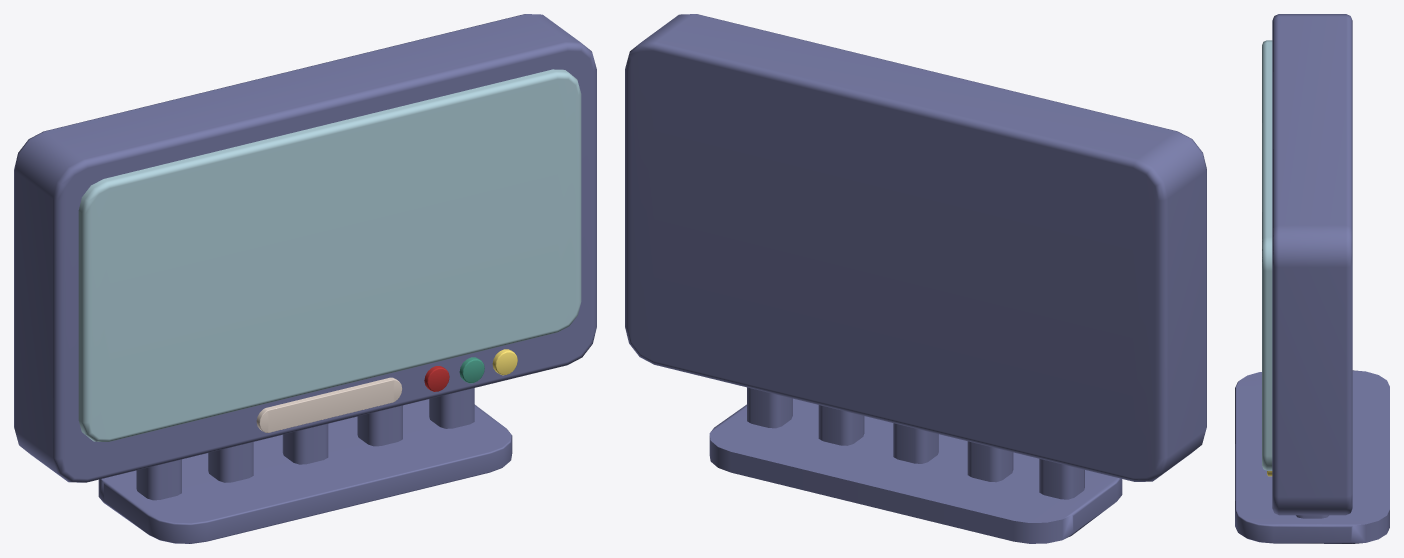
3 views of the same model, side by side, from view 1: azimuth 30°, elevation 25°; view 2: azimuth 150°, elevation 25°; view 3: azimuth 270°, elevation 25° (orthographic). The views are drawn at different scales.
Parts seen in each view (by area): view 1: TV_1; view 2: TV_1; view 3: TV_1.
Boxes of the visible parts, x1,y1,x2,y2 form: TV_1: (14, 14, 596, 543); TV_1: (625, 14, 1206, 543); TV_1: (1235, 14, 1389, 543).
Bounding box in the file's own units: 1.25 × 0.8585 × 0.349.
1 material, 1 textured.
